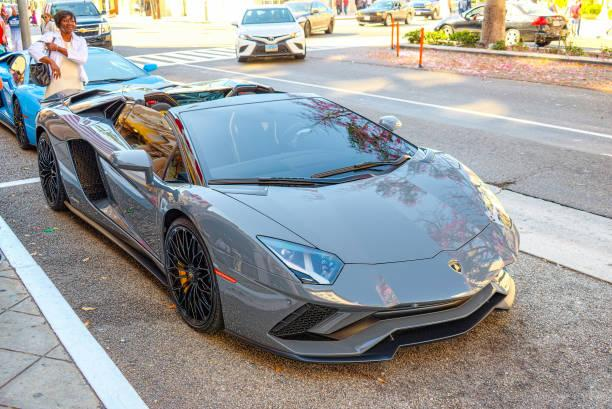porsche: (444, 254, 472, 278)
